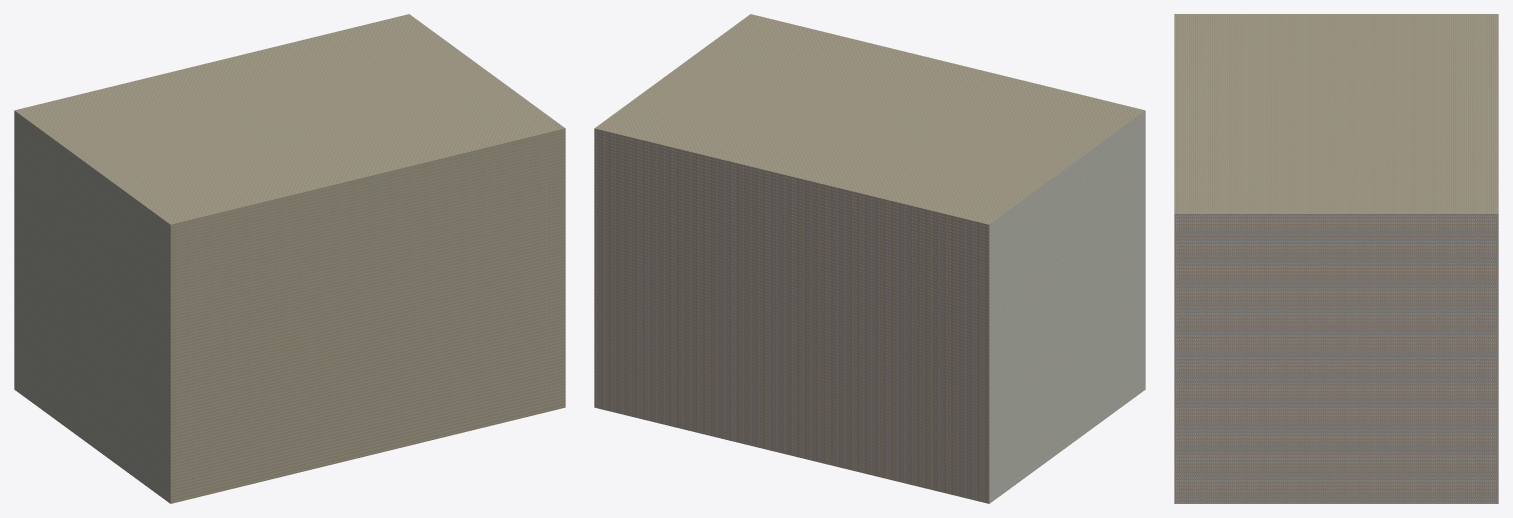
3 renders of one model, left to right at view 1: azimuth 30°, elevation 25°; view 2: azimuth 150°, elevation 25°; view 3: azimuth 270°, elevation 25°, orthographic. The views are drawn at different scales.
Visible parts, largest first — view 1: Cube; view 2: Cube; view 3: Cube.
Boxes of the visible parts, <box> form: Cube: <box>14,14,565,503</box>; Cube: <box>594,14,1145,503</box>; Cube: <box>1174,14,1498,503</box>.
Size of the model in its own units: 818 by 552 by 560.
Materials: 1 (1 with a texture image).
